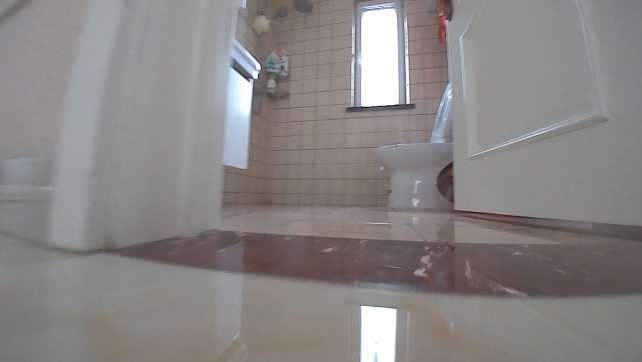door_anno: (439, 0, 640, 229)
toilet: (370, 80, 452, 210)
